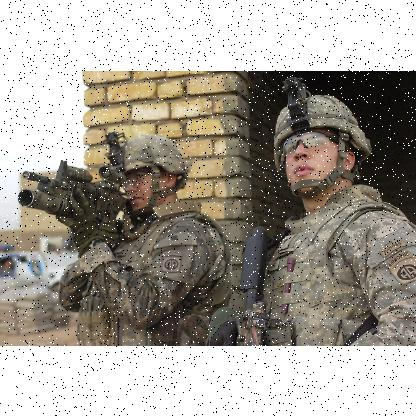gun: (15, 154, 131, 252), (235, 226, 266, 344)
